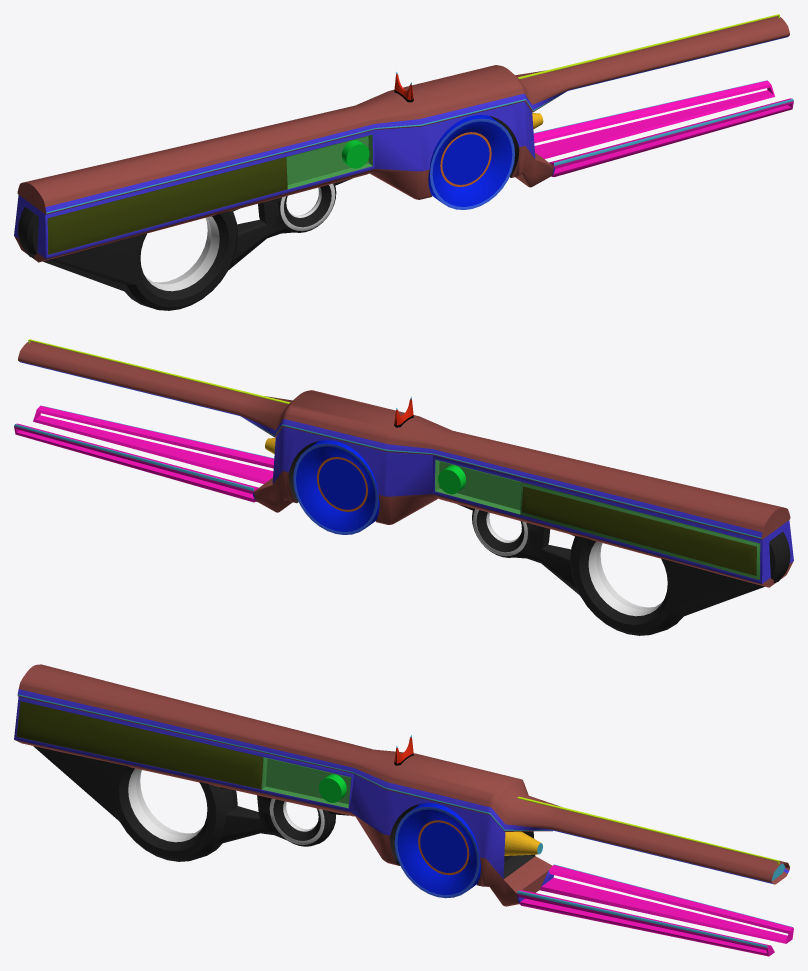
Rendered from Progeny MG Alpha V3.FBX.
The picture shows the model from 3 angles, top to bottom: view 1: azimuth 30°, elevation 25°; view 2: azimuth 150°, elevation 25°; view 3: azimuth 330°, elevation 25°; orthographic projection.
Visible parts, largest first — view 1: Box001, Torus001, Cylinder006, Box002, Cylinder003; view 2: Box001, Torus001, Cylinder006, Box002, Cylinder003; view 3: Box001, Torus001, Cylinder006, Cylinder005, Box002, Cylinder003.
Boxes of the visible parts, bbox=[...] form: Box001: bbox=[14, 16, 793, 262]; Torus001: bbox=[18, 178, 351, 310]; Cylinder006: bbox=[428, 115, 514, 209]; Box002: bbox=[518, 14, 779, 78]; Cylinder003: bbox=[341, 140, 369, 168]; Box001: bbox=[14, 341, 793, 587]; Torus001: bbox=[457, 504, 790, 635]; Cylinder006: bbox=[293, 440, 379, 534]; Box002: bbox=[28, 339, 290, 404]; Cylinder003: bbox=[438, 465, 465, 494]; Box001: bbox=[14, 664, 793, 956]; Torus001: bbox=[33, 746, 348, 861]; Cylinder006: bbox=[394, 803, 480, 898]; Cylinder005: bbox=[504, 831, 542, 855]; Box002: bbox=[517, 796, 779, 864]; Cylinder003: bbox=[319, 774, 346, 802].
Size of the model in its own units: 135 by 29.49 by 12.11.
